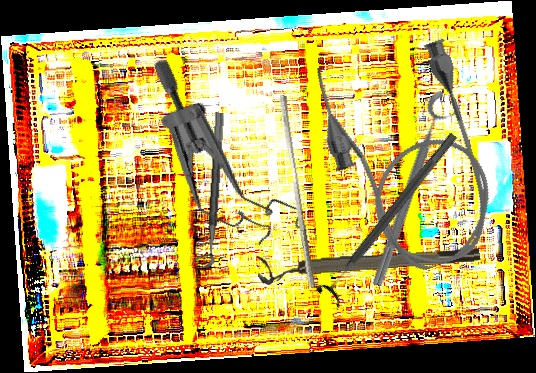Cannula: (302, 26, 514, 287)
Fixation Ring: (314, 125, 467, 309), (366, 88, 464, 293), (257, 244, 481, 286), (190, 111, 226, 269)
Pusher: (271, 93, 324, 290)
Speculum: (101, 54, 347, 265)
